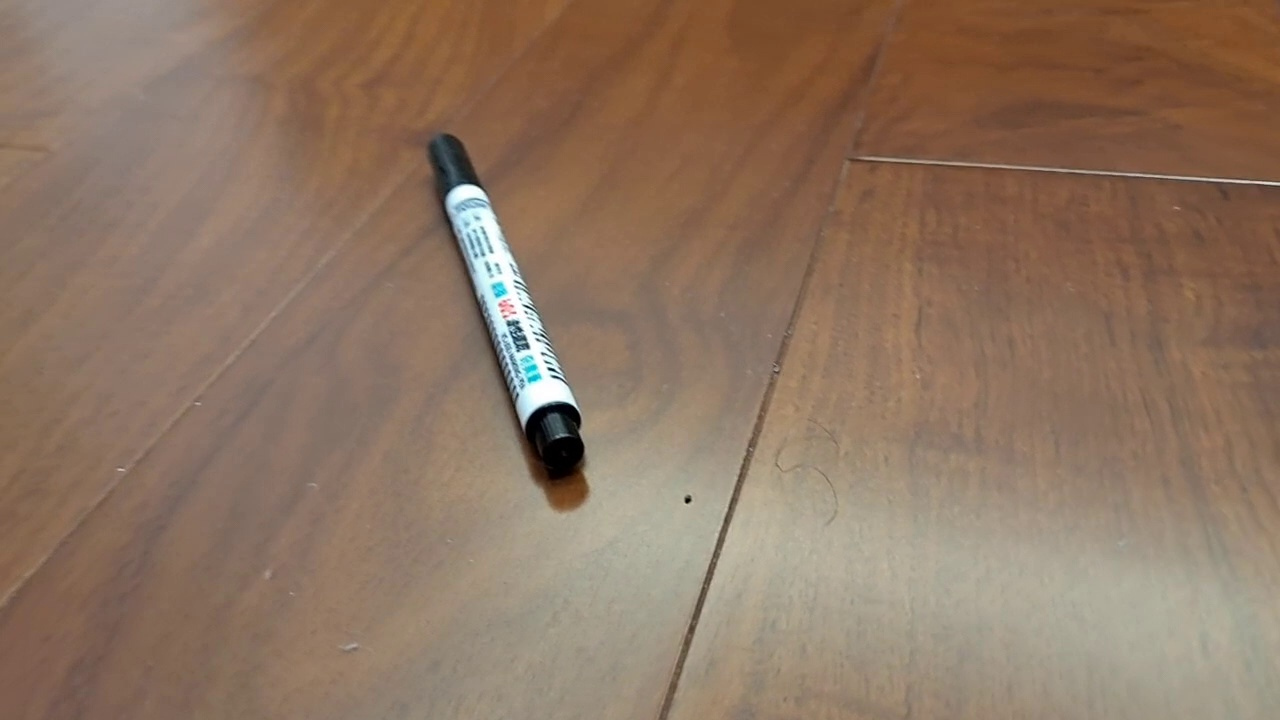pen: (427, 132, 585, 472)
